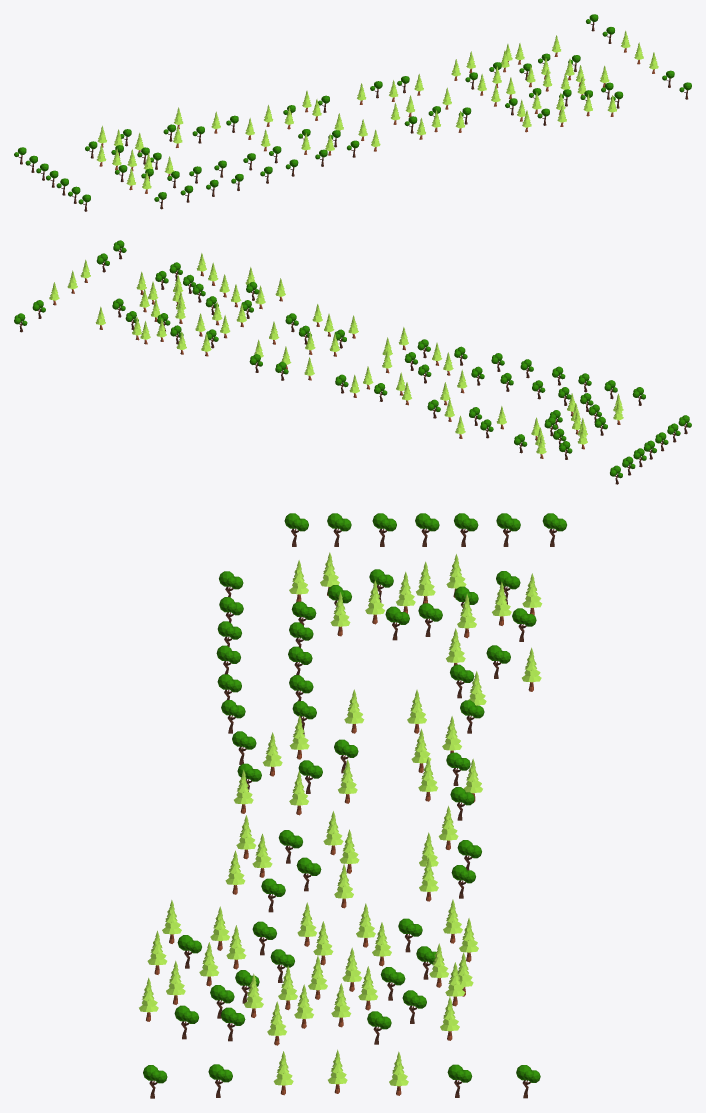
File: Trees.fbx
3 renders of one model, top to bottom at view 1: azimuth 30°, elevation 25°; view 2: azimuth 150°, elevation 25°; view 3: azimuth 270°, elevation 25°, orthographic. The views are drawn at different scales.
Size of the model in its own units: 35554 by 1390 by 11433.
